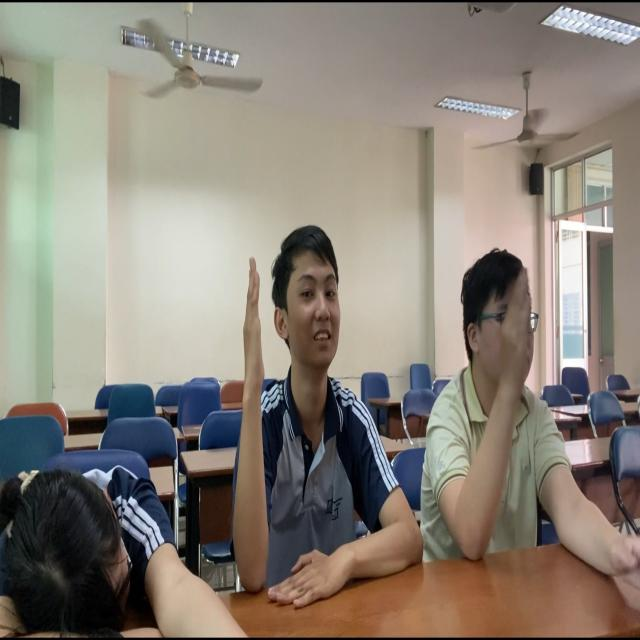raise_hand: (426, 237, 580, 588), (238, 224, 365, 602)
sleep: (4, 387, 242, 638)
